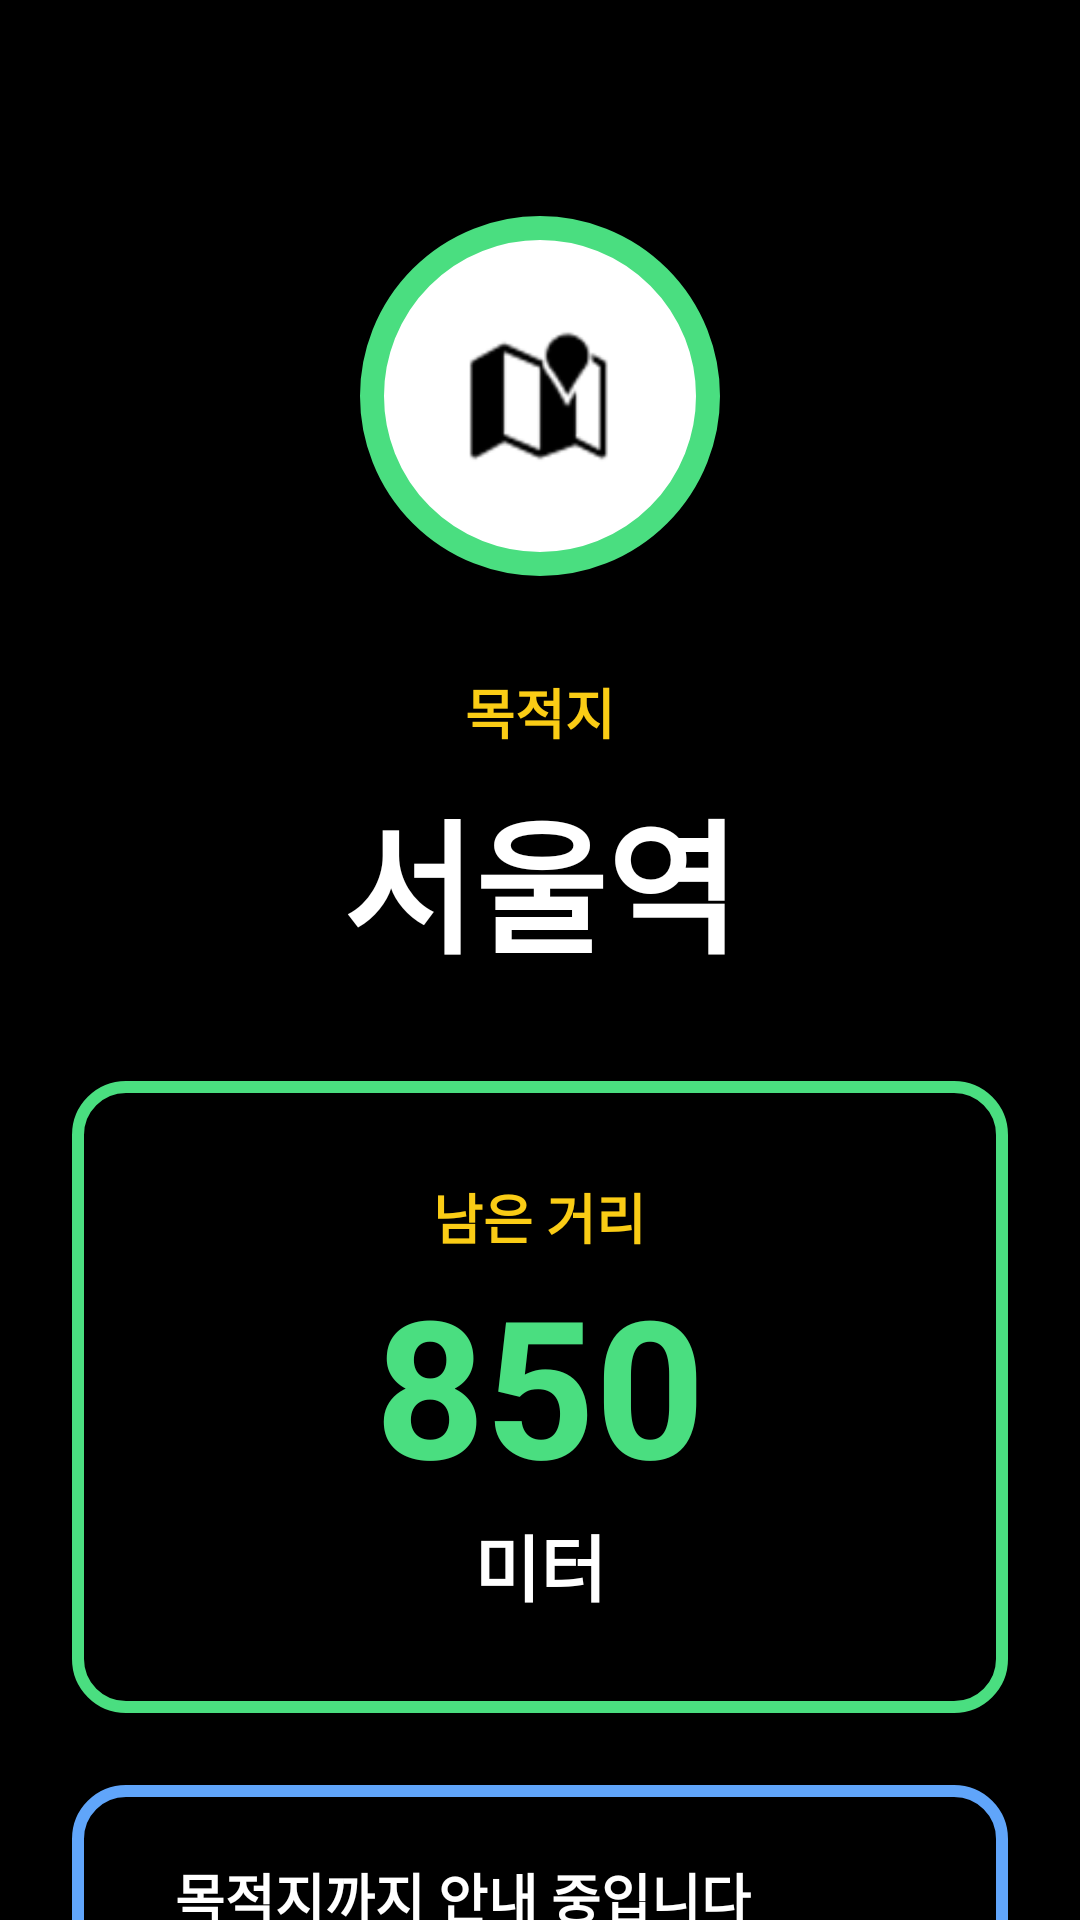

Named icons in this screenshot (1080px×1920px) and their centers, (x=x, y=y):
map: (x=538, y=396)
